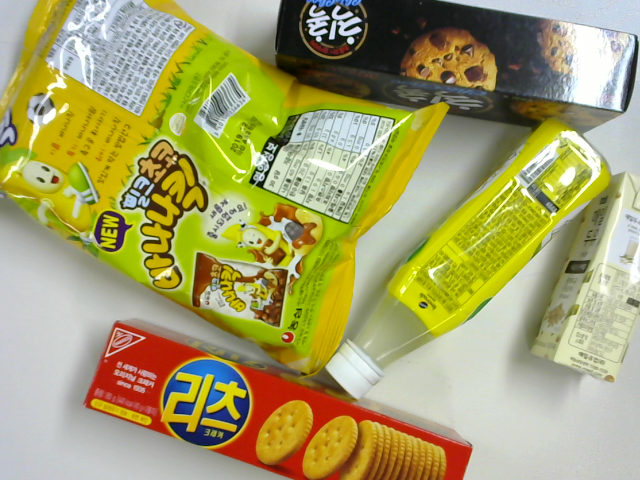99.89_Soymilk: (529, 172, 640, 385)
Banana_Kick: (1, 1, 451, 378)
Chicchok_Original_2400: (273, 1, 635, 140)
Ritz_Cracker: (85, 320, 473, 480)
Sunkist_Lemonaid_Pet: (325, 116, 611, 403)
